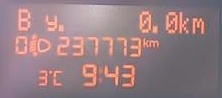-: (151, 25, 158, 33), (57, 23, 64, 31)
0: (164, 10, 177, 33), (138, 10, 151, 33), (13, 34, 27, 54)
2: (55, 35, 68, 55)
3: (119, 64, 134, 87), (128, 36, 141, 57), (71, 35, 83, 56), (36, 69, 47, 85)
4: (103, 63, 118, 85)
7: (115, 36, 127, 56), (86, 35, 98, 55), (101, 36, 112, 55)
9: (81, 63, 96, 87)
X: (16, 8, 30, 30), (190, 16, 204, 34), (44, 13, 57, 31), (178, 11, 188, 33), (52, 68, 62, 85), (149, 39, 158, 47), (98, 66, 102, 83), (142, 36, 148, 47)
